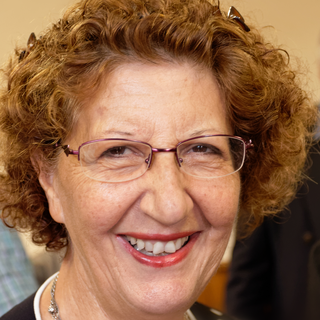eye: (178, 140, 226, 161), (95, 143, 140, 163)
